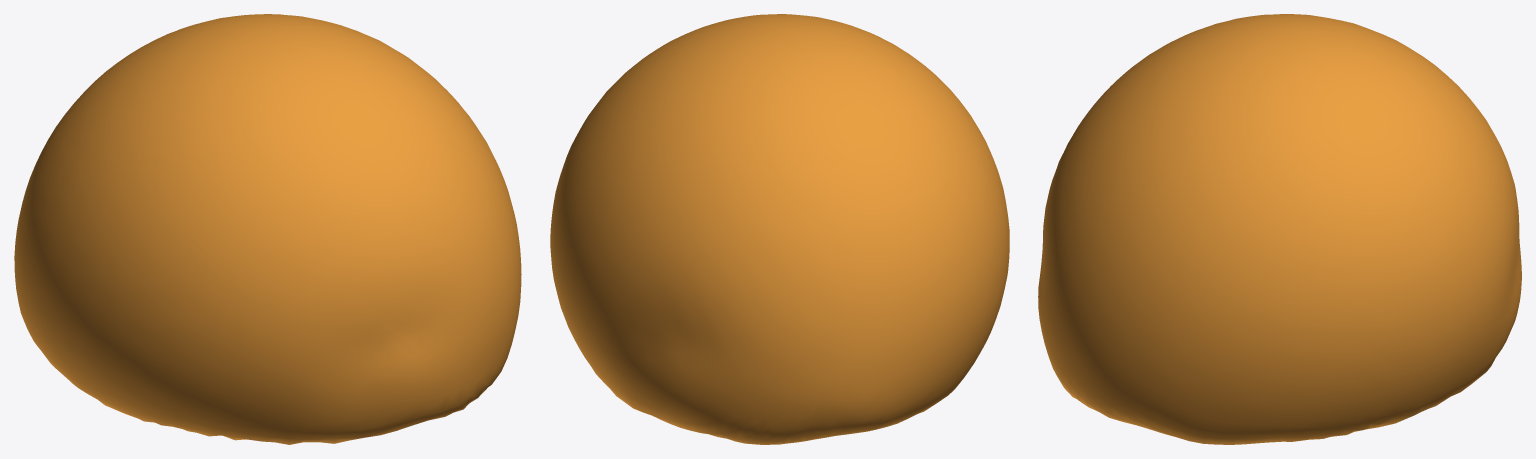
File: yolk.glb
The picture shows the model from 3 angles, left to right: view 1: azimuth 30°, elevation 25°; view 2: azimuth 150°, elevation 25°; view 3: azimuth 270°, elevation 25°; orthographic projection. The views are drawn at different scales.
Visible parts, largest first — view 1: yolk; view 2: yolk; view 3: yolk.
Part boxes in pixels (box(x1,y1,x2,y2)): yolk: box(14, 14, 521, 444); yolk: box(550, 14, 1009, 444); yolk: box(1038, 14, 1521, 444).
Size of the model in its own units: 1.97 by 1.48 by 1.98.
